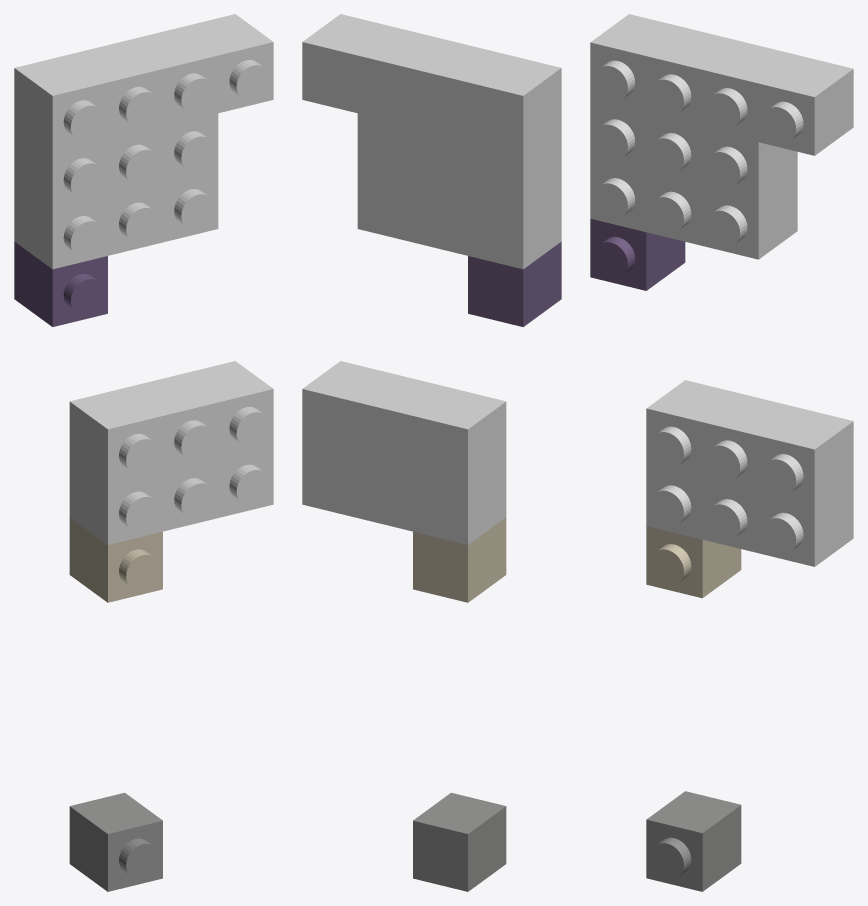
File: current.glb
The picture shows the model from 3 angles, left to right: view 1: azimuth 30°, elevation 25°; view 2: azimuth 150°, elevation 25°; view 3: azimuth 330°, elevation 25°; orthographic projection.
Parts seen in each view (by area): view 1: world; view 2: world; view 3: world.
Boxes of the visible parts, x1,y1,x2,y2 form: world: (14, 14, 273, 891); world: (302, 14, 561, 891); world: (590, 14, 853, 891).
Bounding box in the file's own units: 32 × 112 × 11.4.
